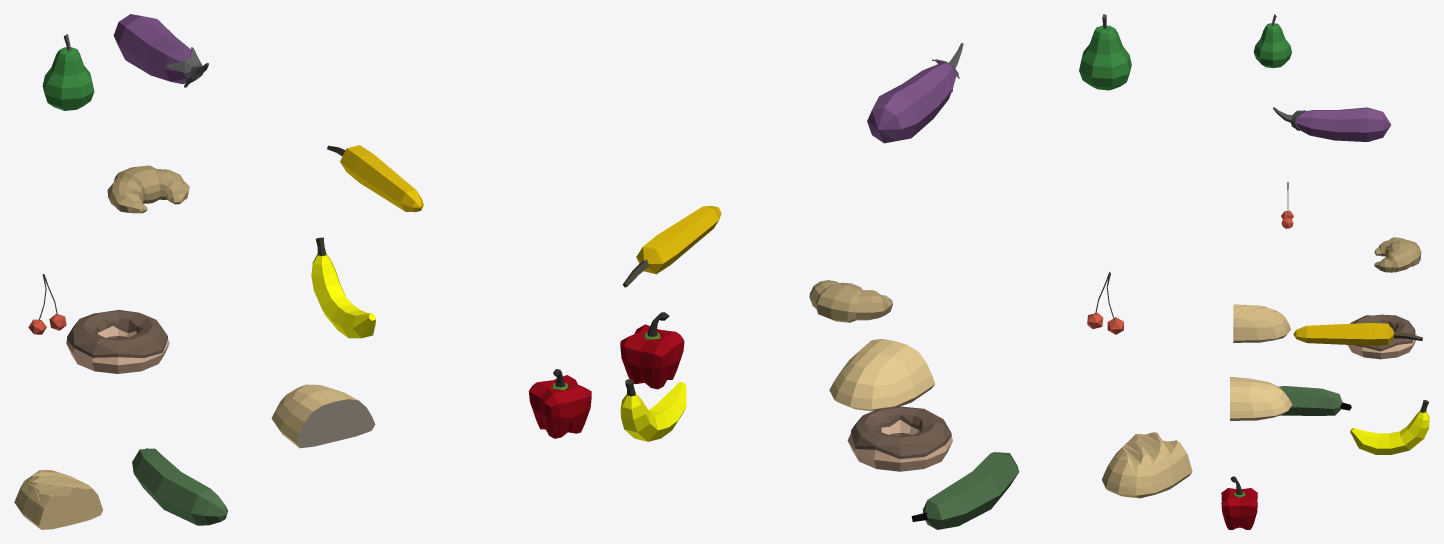
Rendered from Panes y Frutas.fbx.
3 views of the same model, side by side, from view 1: azimuth 30°, elevation 25°; view 2: azimuth 150°, elevation 25°; view 3: azimuth 270°, elevation 25° (orthographic). The views are drawn at different scales.
Visible parts, largest first — view 1: Juan_yael_aosa_gernandez:name2, Juan_yael_aosa_gernandez:name10, Juan_yael_aosa_gernandez:name4, polySurface2, Juan_yael_aosa_gernandez:name9, Juan_yael_aosa_gernandez:name6, Juan_yael_aosa_gernandez:name1, Juan_yael_aosa_gernandez:name0, Juan_yael_aosa_gernandez:name3, Juan_yael_aosa_gernandez:name8; view 2: Juan_yael_aosa_gernandez:name2, Juan_yael_aosa_gernandez:name10, Juan_yael_aosa_gernandez:name4, Juan_yael_aosa_gernandez:name9, polySurface2, Juan_yael_aosa_gernandez:name6, Juan_yael_aosa_gernandez:name3, Juan_yael_aosa_gernandez:name0, Juan_yael_aosa_gernandez:name1, Juan_yael_aosa_gernandez:name8; view 3: Juan_yael_aosa_gernandez:name4, Juan_yael_aosa_gernandez:name10, Juan_yael_aosa_gernandez:name3, Juan_yael_aosa_gernandez:name9, Juan_yael_aosa_gernandez:name0, polySurface2, Juan_yael_aosa_gernandez:name2, Juan_yael_aosa_gernandez:name6, Juan_yael_aosa_gernandez:name1, Juan_yael_aosa_gernandez:name8.
Boxes of the visible parts, left/top/right/bottom form: Juan_yael_aosa_gernandez:name2: left=66, top=310, right=169, bottom=373; Juan_yael_aosa_gernandez:name10: left=271, top=384, right=375, bottom=448; Juan_yael_aosa_gernandez:name4: left=113, top=14, right=208, bottom=87; polySurface2: left=132, top=448, right=227, bottom=525; Juan_yael_aosa_gernandez:name9: left=14, top=470, right=102, bottom=529; Juan_yael_aosa_gernandez:name6: left=528, top=369, right=591, bottom=438; Juan_yael_aosa_gernandez:name1: left=107, top=165, right=189, bottom=213; Juan_yael_aosa_gernandez:name0: left=311, top=237, right=375, bottom=338; Juan_yael_aosa_gernandez:name3: left=327, top=145, right=423, bottom=212; Juan_yael_aosa_gernandez:name8: left=42, top=34, right=94, bottom=110; Juan_yael_aosa_gernandez:name2: left=847, top=406, right=952, bottom=471; Juan_yael_aosa_gernandez:name10: left=829, top=339, right=934, bottom=411; Juan_yael_aosa_gernandez:name4: left=867, top=43, right=963, bottom=143; Juan_yael_aosa_gernandez:name9: left=1102, top=432, right=1192, bottom=498; polySurface2: left=911, top=452, right=1019, bottom=529; Juan_yael_aosa_gernandez:name6: left=620, top=312, right=684, bottom=389; Juan_yael_aosa_gernandez:name3: left=622, top=206, right=721, bottom=287; Juan_yael_aosa_gernandez:name0: left=620, top=379, right=686, bottom=441; Juan_yael_aosa_gernandez:name1: left=809, top=280, right=892, bottom=322; Juan_yael_aosa_gernandez:name8: left=1079, top=14, right=1131, bottom=90; Juan_yael_aosa_gernandez:name4: left=1273, top=107, right=1391, bottom=141; Juan_yael_aosa_gernandez:name10: left=1230, top=377, right=1292, bottom=420; Juan_yael_aosa_gernandez:name3: left=1293, top=323, right=1422, bottom=345; Juan_yael_aosa_gernandez:name9: left=1233, top=304, right=1290, bottom=342; Juan_yael_aosa_gernandez:name0: left=1350, top=400, right=1429, bottom=454; polySurface2: left=1278, top=386, right=1351, bottom=415; Juan_yael_aosa_gernandez:name2: left=1347, top=314, right=1416, bottom=359; Juan_yael_aosa_gernandez:name6: left=1221, top=476, right=1257, bottom=529; Juan_yael_aosa_gernandez:name1: left=1374, top=237, right=1421, bottom=272; Juan_yael_aosa_gernandez:name8: left=1253, top=14, right=1291, bottom=67.
Bounding box in the file's own units: 5.47 × 4.82 × 2.53.
